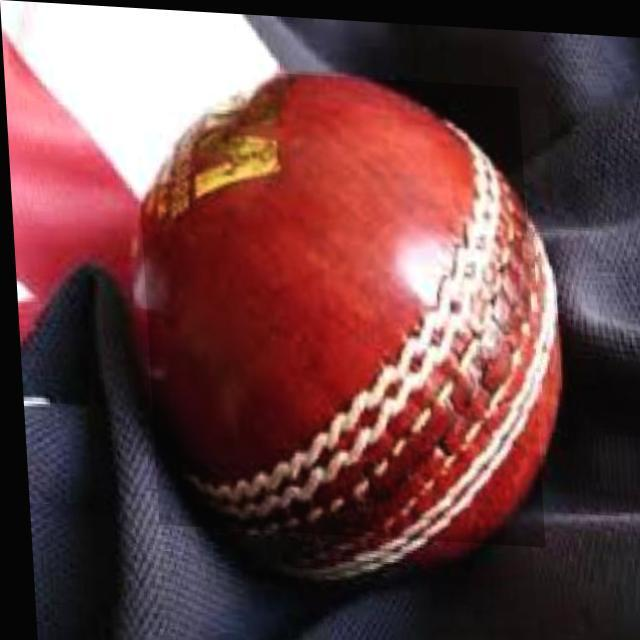-: (132, 63, 539, 541)
